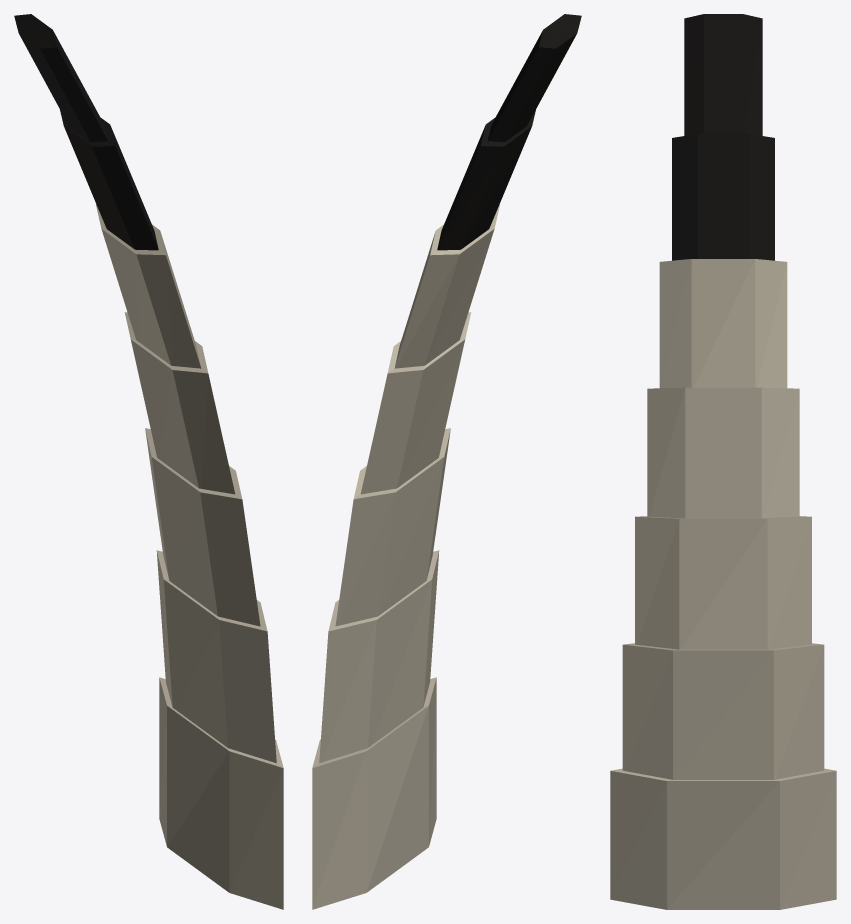
File: wyrm-rib-a.glb
The picture shows the model from 3 angles, left to right: view 1: azimuth 30°, elevation 25°; view 2: azimuth 150°, elevation 25°; view 3: azimuth 270°, elevation 25°; orthographic projection. The views are drawn at different scales.
Visible parts, largest first — view 1: wyrm-rib-a; view 2: wyrm-rib-a; view 3: wyrm-rib-a.
Part boxes in pixels (left/top/right/bottom): wyrm-rib-a: left=14, top=14, right=283, bottom=909; wyrm-rib-a: left=312, top=14, right=581, bottom=909; wyrm-rib-a: left=610, top=14, right=836, bottom=909.
Size of the model in its own units: 1.4 by 5.5 by 1.4.
